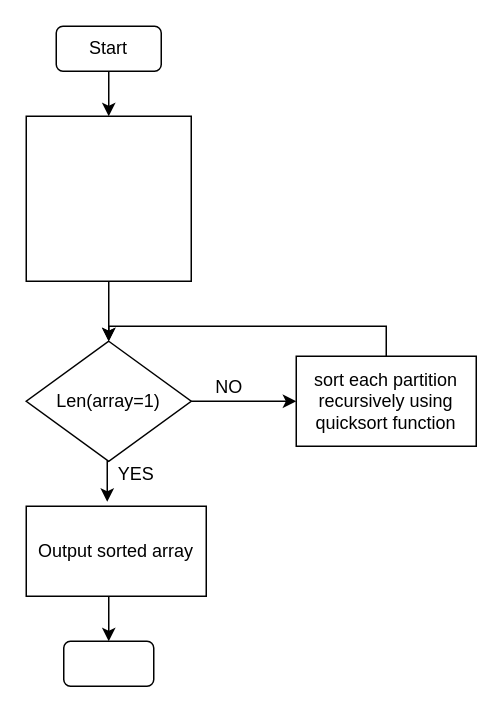
The diagram is 503 pixels wide and 713 high, and some of its shapes have lost their labels. The shapes that lost their labels are listed below. From the top down, each one's box as (x1, y1, x2, y2) in pixels, then its label:
(25, 115, 191, 281): Split array into 2 sorted batches using pivot
(62, 640, 154, 686): End
